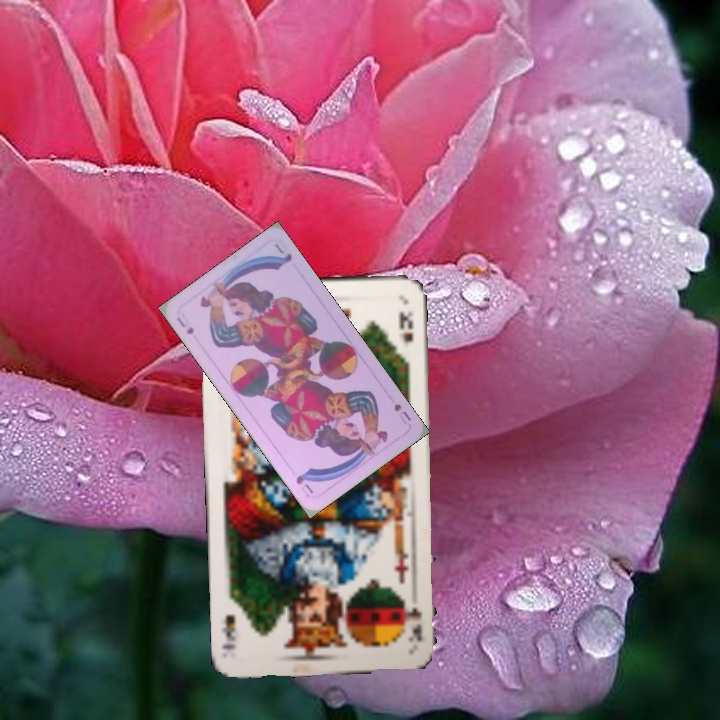SK: (402, 593, 427, 644)
SU: (390, 399, 414, 427), (172, 313, 196, 337)
